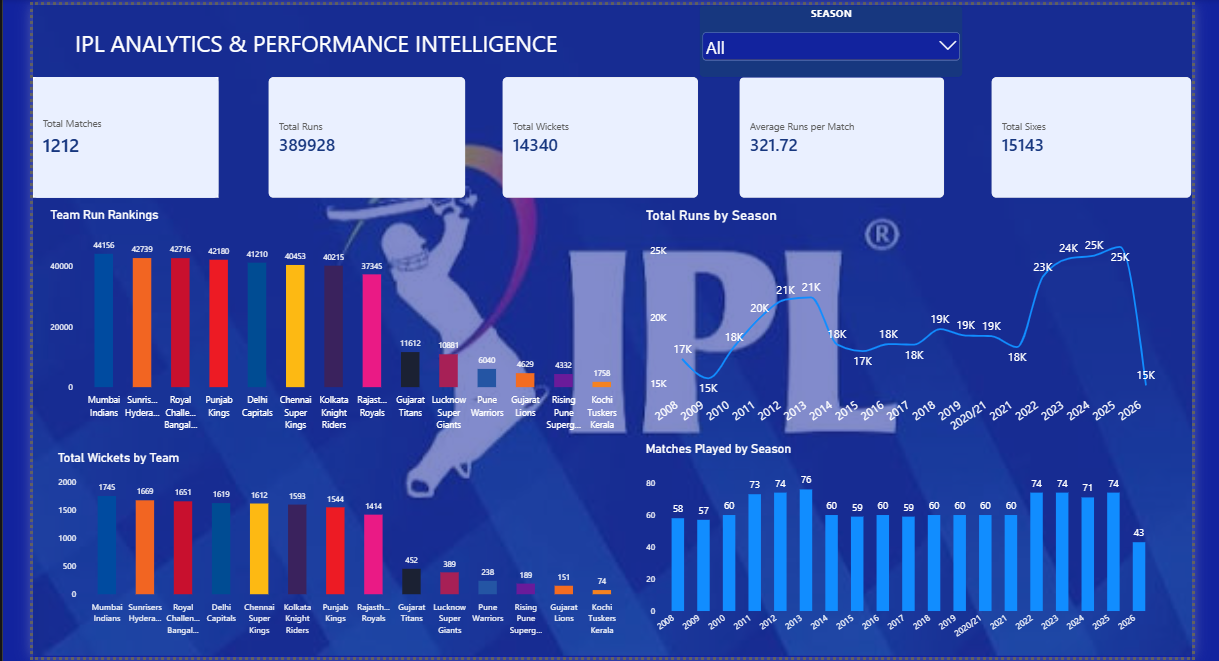

The page's visual inventory and layout, read from the dashboard file:
{"tool":"powerbi","page":{"name":"IPL Overview","canvas":[1920,1080],"ordinal":1},"visuals":[{"type":"cardVisual","fields":{"Data":["Fact_Matches.Total Matches"]},"box":[0,120,307.4,200.1],"z":0},{"type":"cardVisual","fields":{"Data":["Fact_BallByBall.Total Runs"]},"box":[390,120,326.9,200.1],"z":1000},{"type":"cardVisual","fields":{"Data":["Fact_Matches.Average Runs per Match"]},"box":[1170,120,339.1,200.1],"z":2000},{"type":"cardVisual","fields":{"Data":["Fact_BallByBall.Total Wickets"]},"box":[777.5,120,324.5,200.1],"z":3000},{"type":"cardVisual","fields":{"Data":["Fact_BallByBall.Total Sixes"]},"box":[1587.5,120,331.8,200.1],"z":4000},{"type":"textbox","box":[0,0,907.5,120],"z":5000},{"type":"slicer","title":"SEASON","fields":{"Values":["Dim_Matches.season"]},"box":[1102.5,0,437.5,120],"z":6000},{"type":"clusteredColumnChart","title":"Matches Played by Season","fields":{"Category":["Dim_Matches.season"],"Y":["CountNonNull(Dim_Matches.match_id)"]},"box":[1000,707.5,877.1,372.7],"z":7000},{"type":"lineChart","title":"Total Runs by Season","fields":{"Category":["Dim_Matches.season"],"Y":["Fact_BallByBall.Total Batting Runs"]},"box":[1000,320,877.5,420],"z":8000},{"type":"clusteredColumnChart","title":"Team Run Rankings","fields":{"Category":["Dim_BattingTeams.team_name"],"Y":["Fact_BallByBall.Total Batting Runs"]},"box":[12.5,320,987.5,402.5],"z":9000},{"type":"clusteredColumnChart","title":"Total Wickets by Team","fields":{"Category":["Dim_BowlingTeams.team_name"],"Y":["Fact_BallByBall.Total Wickets"]},"box":[25,722.5,975,340],"z":10000}]}

Visuals, with their boxes on the page's 1920x1080 design canvas (x1, y1, x2, y2). These are canvas units, not pixel positions in the 1219x661 screenshot, which may show the page scaled, cropped or inside an application window:
cardVisual - Fact_Matches.Total Matches: l=0, t=120, r=307, b=320
cardVisual - Fact_BallByBall.Total Runs: l=390, t=120, r=717, b=320
cardVisual - Fact_Matches.Average Runs per Match: l=1170, t=120, r=1509, b=320
cardVisual - Fact_BallByBall.Total Wickets: l=778, t=120, r=1102, b=320
cardVisual - Fact_BallByBall.Total Sixes: l=1588, t=120, r=1919, b=320
textbox: l=0, t=0, r=908, b=120
"SEASON" slicer: l=1102, t=0, r=1540, b=120
"Matches Played by Season" clusteredColumnChart: l=1000, t=708, r=1877, b=1080
"Total Runs by Season" lineChart: l=1000, t=320, r=1878, b=740
"Team Run Rankings" clusteredColumnChart: l=12, t=320, r=1000, b=722
"Total Wickets by Team" clusteredColumnChart: l=25, t=722, r=1000, b=1062
